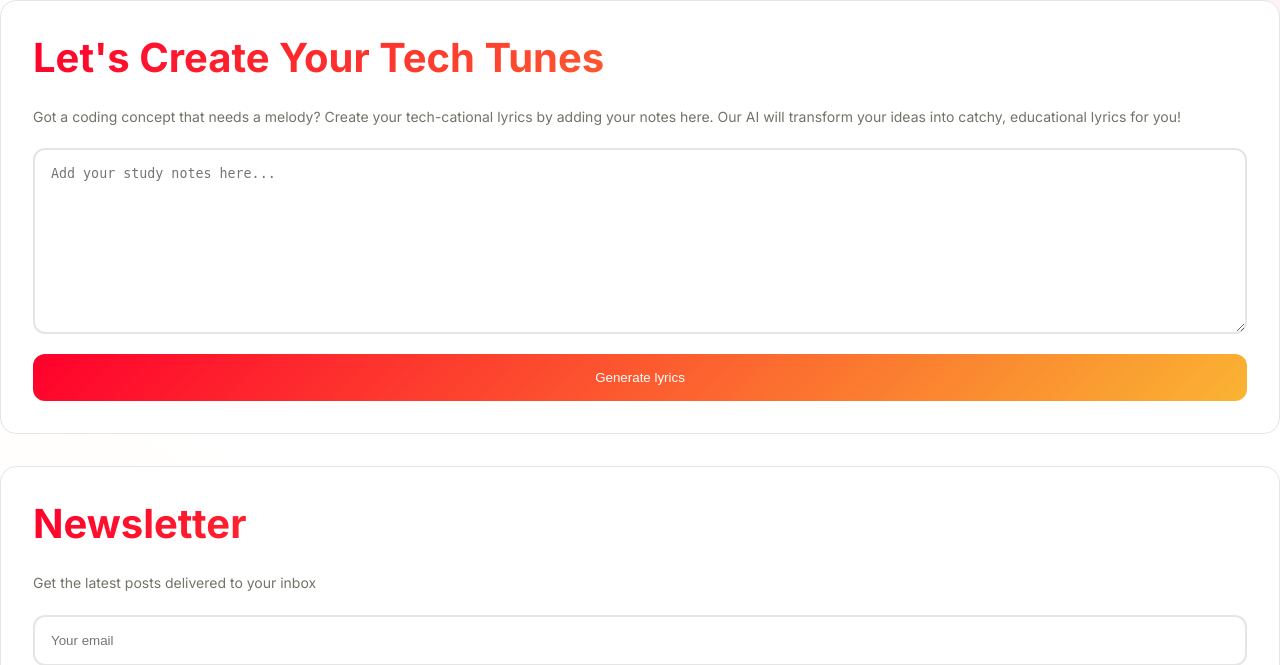
Test: Sidebar Component › handles traditional JSON response correctly
The image size is (1280, 665).
Type "React hooks tutorial" into the text box with placeholder "Add your study notes here..." at (640, 241), box [33, 148, 1247, 334]
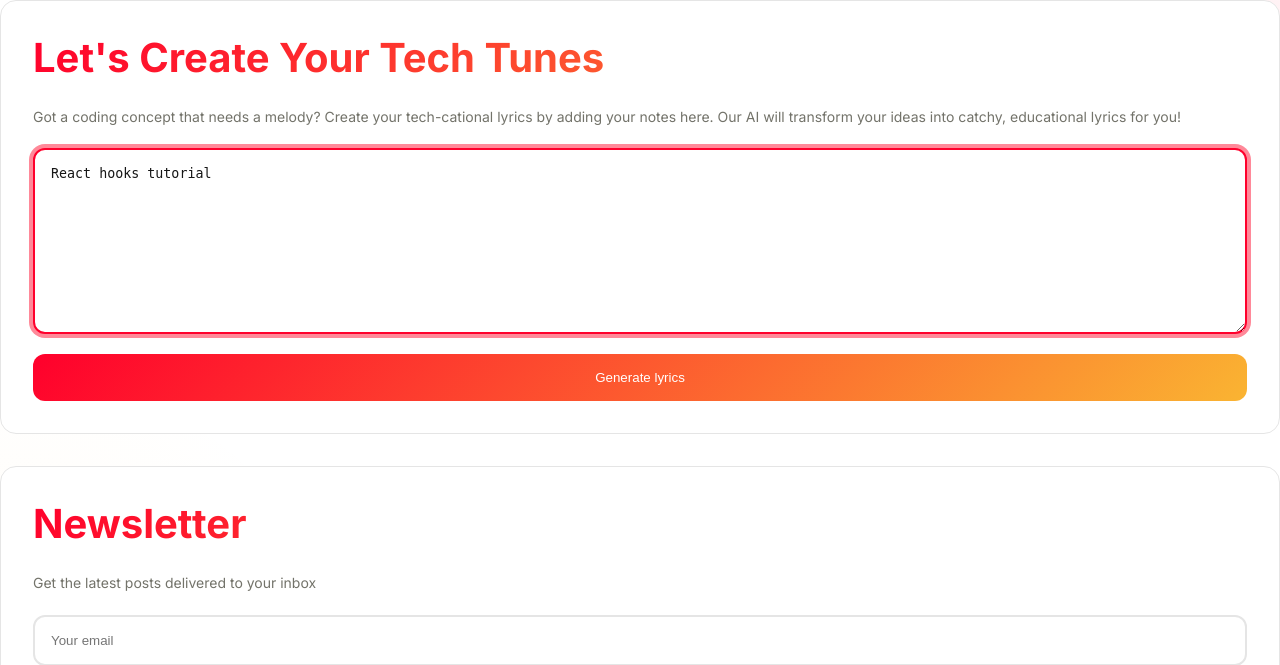
Click the button "Generate lyrics" at (640, 378), box [33, 354, 1247, 401]
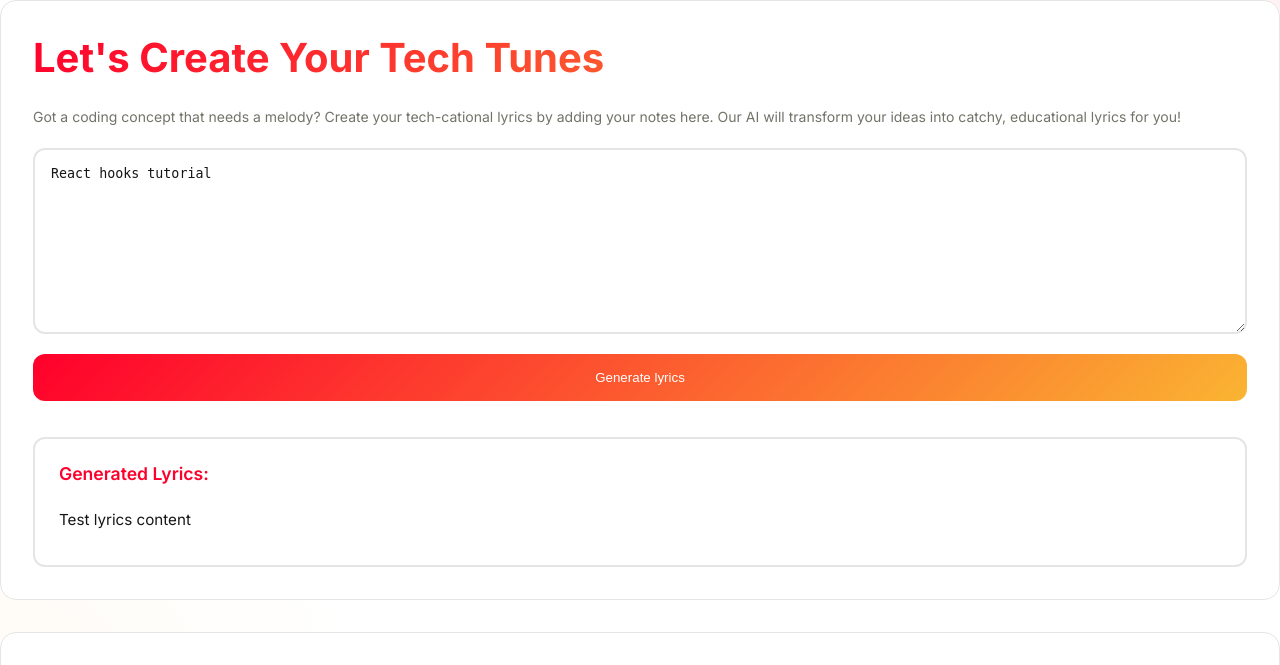
Check: the heading "Generated Lyrics:" is shown, box [59, 463, 209, 484]
Check: the text "Test lyrics content" is shown, box [59, 510, 191, 529]
